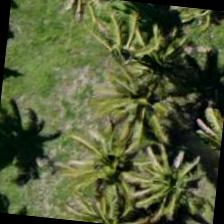Kelapa_Sawit: (107, 13, 206, 112), (68, 119, 166, 218), (106, 53, 204, 152), (83, 0, 182, 91), (128, 140, 222, 223)
